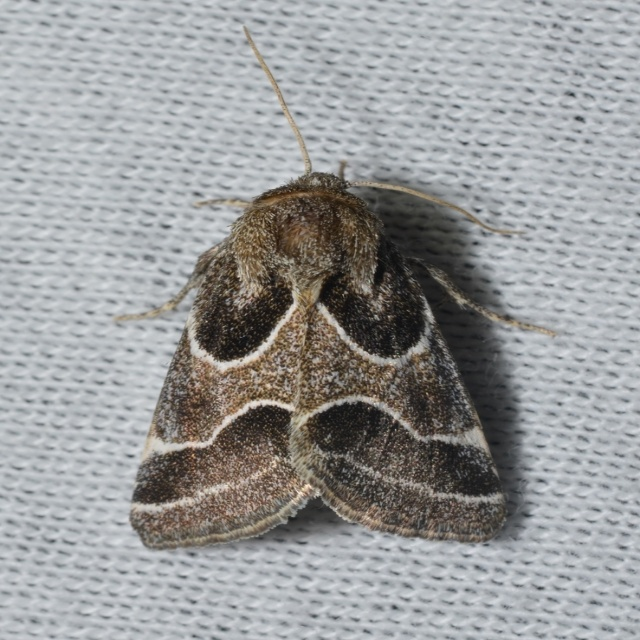Moths and butterflies: (108, 25, 560, 550)
